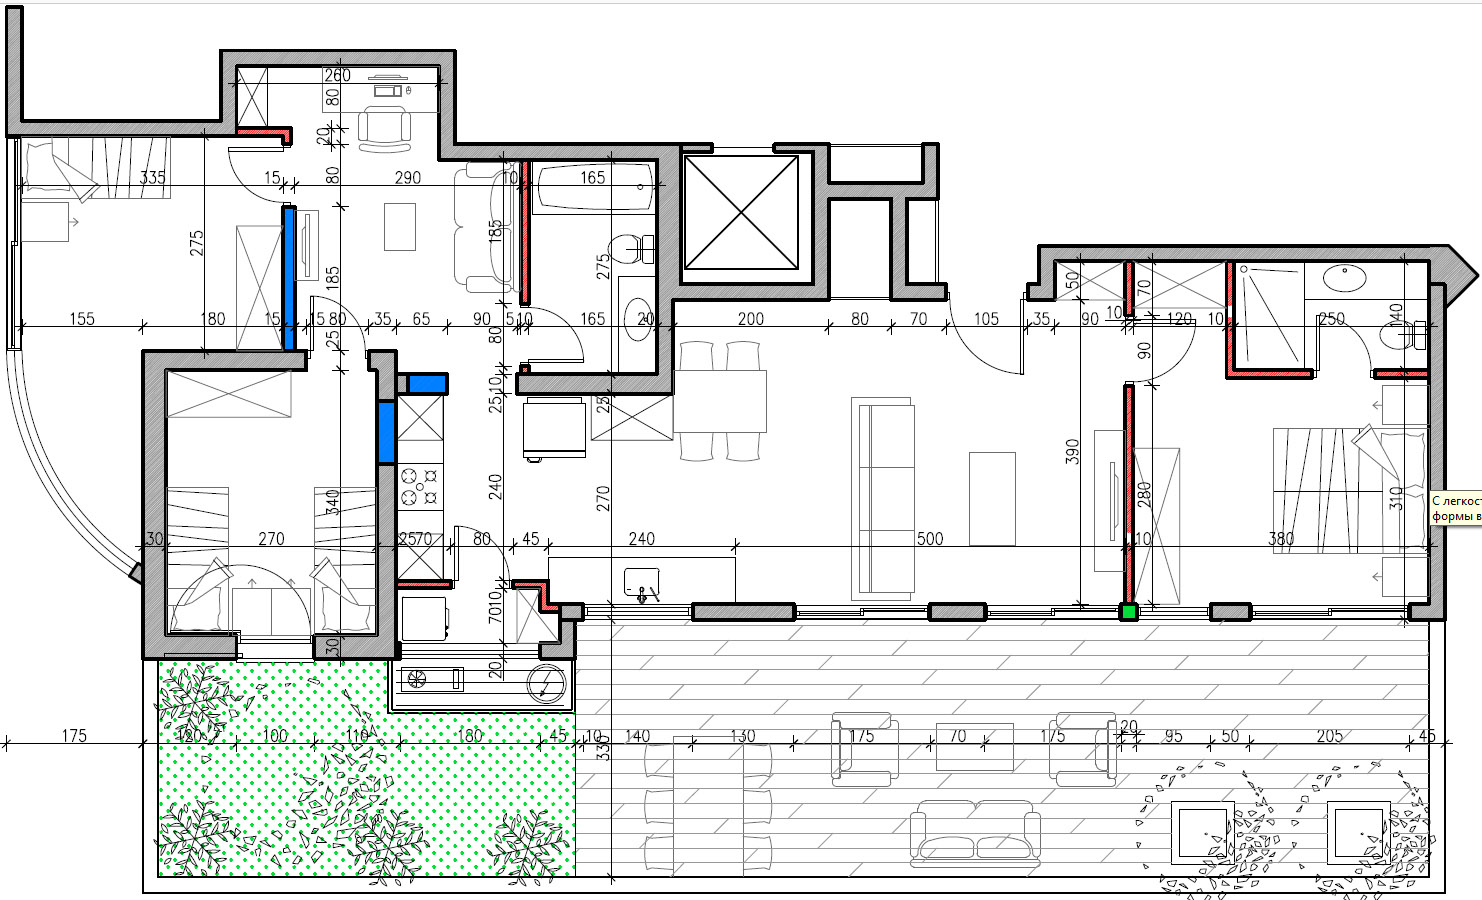door: (945, 309, 1030, 380), (534, 299, 593, 366), (451, 519, 513, 576), (306, 291, 367, 346)
wall: (143, 352, 168, 664), (1040, 245, 1432, 260), (375, 465, 395, 659), (437, 145, 677, 160), (220, 50, 455, 65), (8, 121, 235, 136), (517, 375, 672, 395), (659, 163, 681, 286), (658, 285, 827, 300)
window: (1252, 604, 1410, 620), (401, 642, 540, 661), (794, 604, 930, 622), (984, 605, 1121, 623), (235, 632, 314, 663), (583, 604, 692, 620), (1138, 605, 1211, 623)
